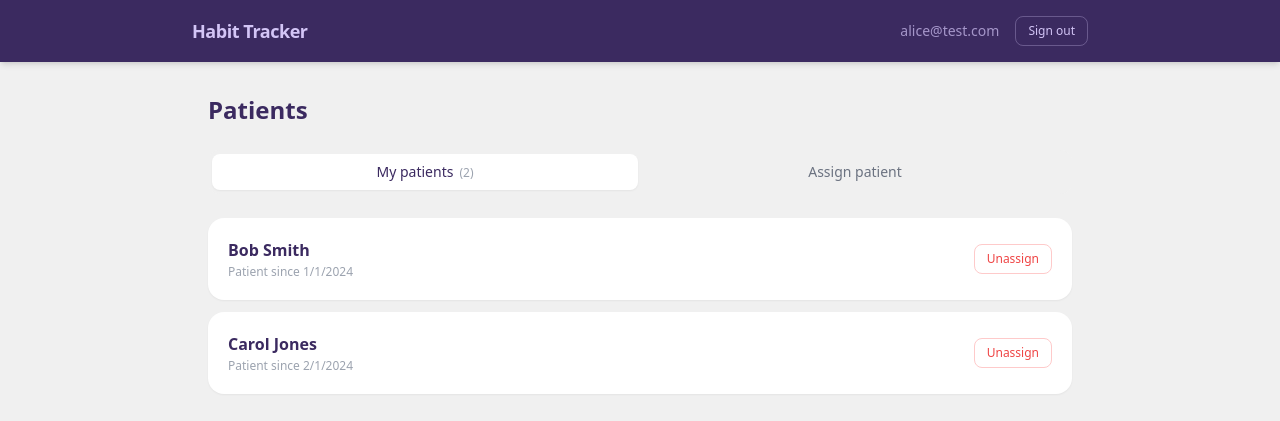
Scenario: NutritionistPatientsPage › switches to the assign panel when "Assign patient" tab is clicked
Click the tab "Assign patient" at (855, 172), box [642,154,1068,190]
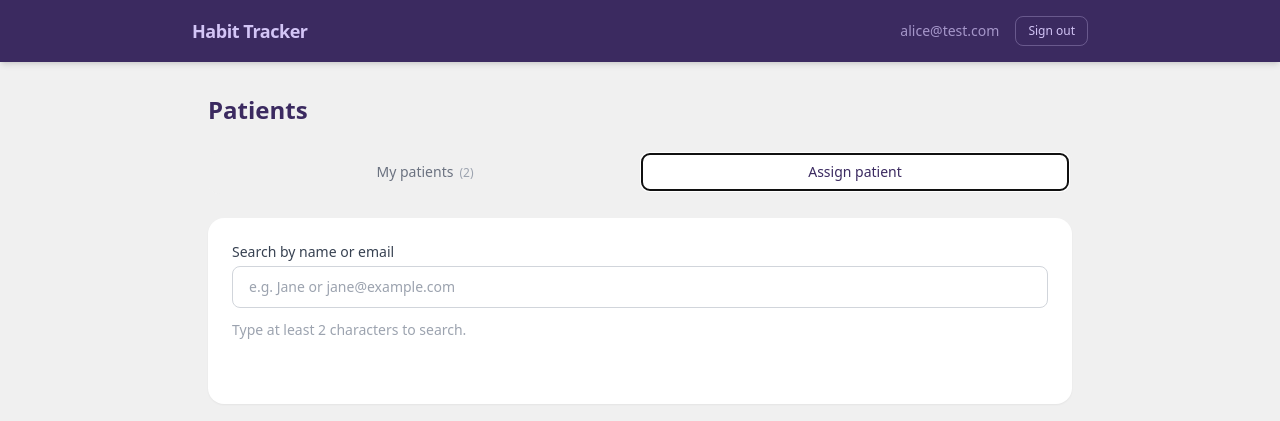
Now the search field labelled "Search by name or email" is shown, box [232,266,1048,308]
